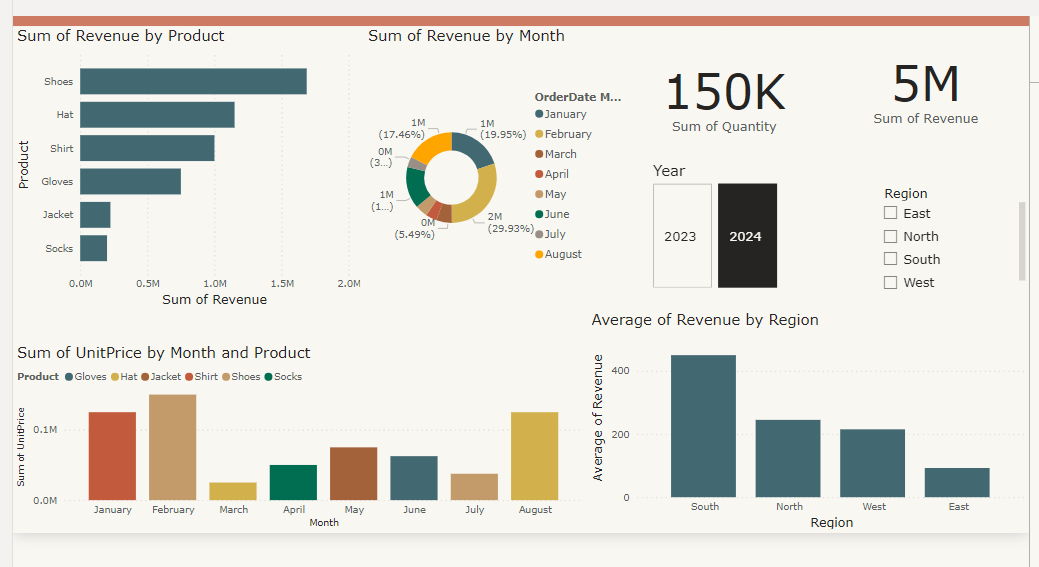

This screenshot's page, from the dashboard's own definition file:
{"tool":"powerbi","page":{"name":"Page 1","canvas":[1280,720],"ordinal":0},"visuals":[{"type":"barChart","fields":{"Category":["SalesData.Product"],"Y":["Sum(SalesData.Revenue)"]},"box":[0,80.9,442.6,357.4],"z":0},{"type":"clusteredColumnChart","fields":{"Y":["Avg(SalesData.Revenue)"],"Category":["SalesData.Region"]},"box":[723.4,438.3,557.4,280.9],"z":1},{"type":"donutChart","fields":{"Category":["SalesData.OrderDate.Variation.Date Hierarchy.Month"],"Y":["Sum(SalesData.Revenue)"]},"box":[442.6,80.9,327.7,357.4],"z":2},{"type":"lineStackedColumnComboChart","fields":{"Category":["SalesData.OrderDate.Variation.Date Hierarchy.Month"],"Y":["Sum(SalesData.UnitPrice)"],"Series":["SalesData.Product"]},"box":[0,480.9,723.4,238.3],"z":3},{"type":"card","fields":{"Values":["Sum(SalesData.Revenue)"]},"box":[1019.1,80.9,261.7,155.3],"z":4},{"type":"card","fields":{"Values":["Sum(SalesData.Quantity)"]},"box":[770.2,80.9,248.9,174.5],"z":5},{"type":"slicer","fields":{"Values":["SalesData.Region"]},"box":[1085.1,276.6,195.7,142.6],"z":6},{"type":"textbox","box":[0,0,1280.9,80.9],"z":8},{"type":"advancedSlicerVisual","fields":{"Values":["SalesData.OrderDate.Variation.Date Hierarchy.Year"]},"box":[802.1,251.1,248.9,163.8],"z":9}]}

Visuals, with their boxes on the page's 1280x720 design canvas (x1, y1, x2, y2). These are canvas units, not pixel positions in the 1039x567 screenshot, which may show the page scaled, cropped or inside an application window:
barChart - SalesData.Product x Sum(SalesData.Revenue): <bbox>0, 81, 443, 438</bbox>
clusteredColumnChart - Avg(SalesData.Revenue) x SalesData.Region: <bbox>723, 438, 1281, 719</bbox>
donutChart - SalesData.OrderDate.Variation.Date Hierarchy.Month x Sum(SalesData.Revenue): <bbox>443, 81, 770, 438</bbox>
lineStackedColumnComboChart - SalesData.OrderDate.Variation.Date Hierarchy.Month x Sum(SalesData.UnitPrice): <bbox>0, 481, 723, 719</bbox>
card - Sum(SalesData.Revenue): <bbox>1019, 81, 1281, 236</bbox>
card - Sum(SalesData.Quantity): <bbox>770, 81, 1019, 255</bbox>
slicer - SalesData.Region: <bbox>1085, 277, 1281, 419</bbox>
textbox: <bbox>0, 0, 1281, 81</bbox>
advancedSlicerVisual - SalesData.OrderDate.Variation.Date Hierarchy.Year: <bbox>802, 251, 1051, 415</bbox>
